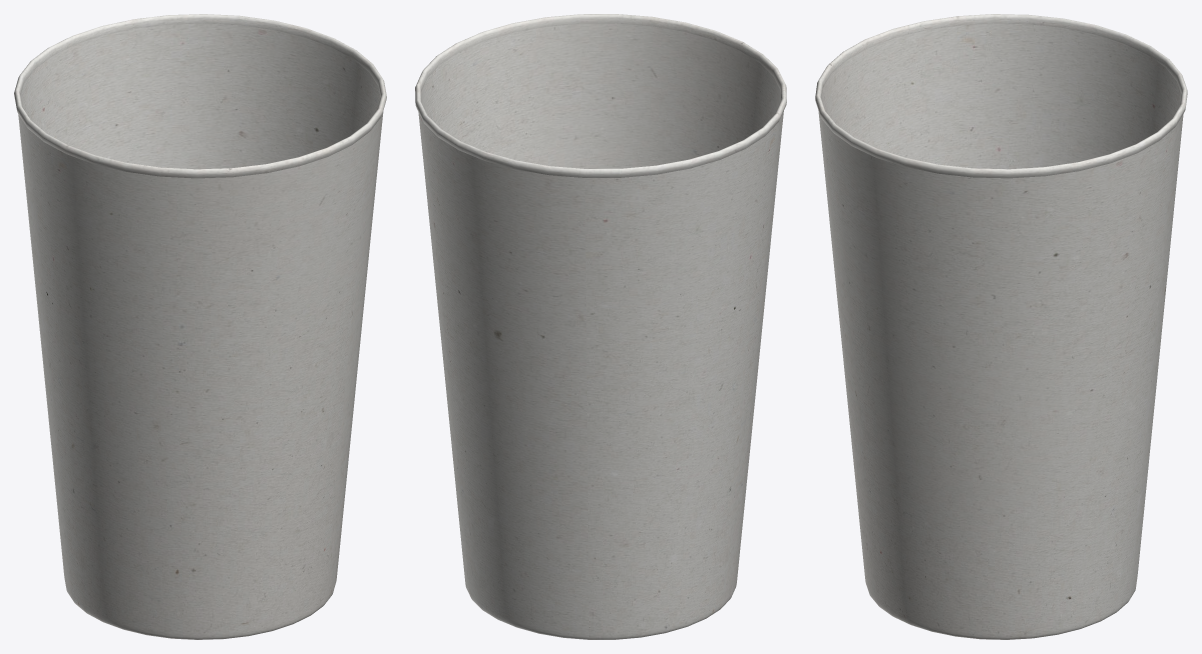
File: cup2_outside.gltf
3 renders of one model, left to right at view 1: azimuth 30°, elevation 25°; view 2: azimuth 150°, elevation 25°; view 3: azimuth 270°, elevation 25°, orthographic.
Visible parts, largest first — view 1: cup2_outside; view 2: cup2_outside; view 3: cup2_outside.
Part boxes in pixels (left/top/right/bottom): cup2_outside: left=14, top=14, right=386, bottom=639; cup2_outside: left=415, top=14, right=786, bottom=639; cup2_outside: left=815, top=14, right=1187, bottom=639.
Size of the model in its own units: 9.17 by 13.36 by 9.17.
Materials: 1 (1 with a texture image).
